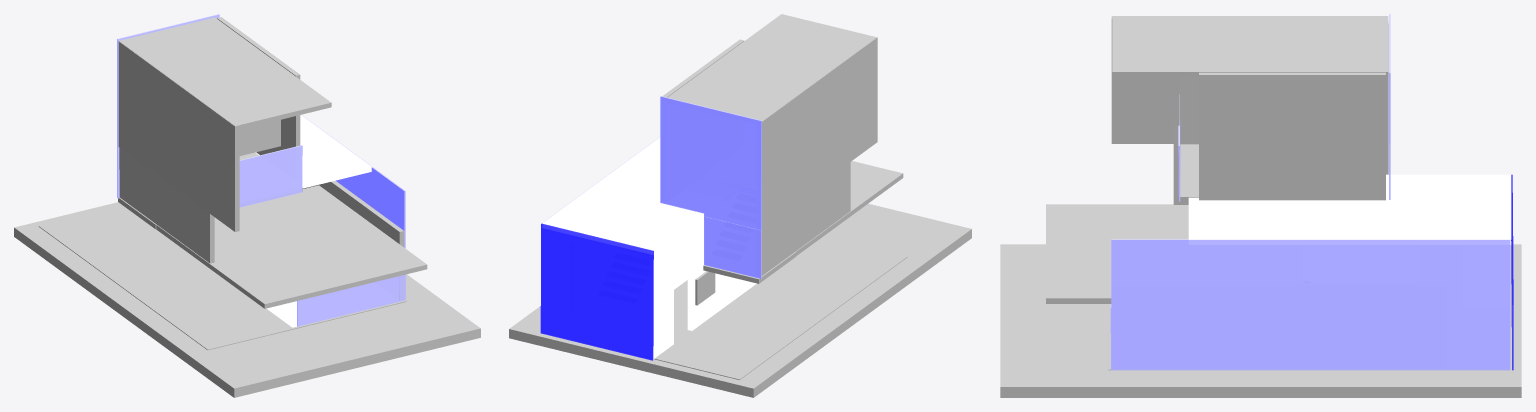
Rendered from mvdr.glb.
3 renders of one model, left to right at view 1: azimuth 30°, elevation 25°; view 2: azimuth 150°, elevation 25°; view 3: azimuth 270°, elevation 25°, orthographic. The views are drawn at different scales.
Parts seen in each view (by area): view 1: Cube.006, Cube.005, Piso planta baja, Cube.011, Cube.004, Cube.003, Cube.002, Cube.012, Cube, Cube.009, Muro 1 planta Baja 1-A, Cube.001 (+3 smaller); view 2: Piso planta baja, Cube.006, Cube.007, Cube.011, Cube.010, Cube.004, Cube, Muro 1 planta Baja 1-A.001, Cube.003, Cube.014, Cube.005, Cube.015 (+2 smaller); view 3: Cube.009, Cube.006, Cube.001, Cube, Cube.004, Cube.005, Cube.011, Cube.003, Cube.008, Cube.007.
Boxes of the visible parts, box(x1,y1,x2,y2) form: Cube.006: box(14, 202, 480, 397); Cube.005: box(156, 185, 427, 308); Piso planta baja: box(38, 205, 406, 350); Cube.011: box(118, 41, 239, 231); Cube.004: box(119, 17, 331, 129); Cube.003: box(119, 147, 214, 263); Cube.002: box(239, 145, 302, 207); Cube.012: box(297, 275, 405, 326); Cube: box(255, 115, 371, 188); Cube.009: box(301, 114, 405, 299); Muro 1 planta Baja 1-A: box(303, 180, 404, 247); Cube.001: box(217, 17, 300, 155); Piso planta baja: box(654, 236, 907, 379); Cube.006: box(509, 203, 971, 397); Cube.007: box(540, 223, 653, 360); Cube.011: box(762, 37, 877, 226); Cube.010: box(660, 96, 761, 230); Cube.004: box(668, 14, 876, 121); Cube: box(542, 137, 703, 254); Muro 1 planta Baja 1-A.001: box(653, 218, 756, 359); Cube.003: box(761, 162, 850, 275); Cube.014: box(704, 216, 761, 278); Cube.005: box(795, 161, 903, 255); Cube.015: box(703, 252, 796, 283); Cube.009: box(1111, 239, 1510, 370); Cube.006: box(1000, 244, 1521, 397); Cube.001: box(1199, 72, 1385, 200); Cube: box(1188, 174, 1511, 244); Cube.004: box(1112, 16, 1388, 77); Cube.005: box(1046, 204, 1188, 303); Cube.011: box(1111, 16, 1173, 143); Cube.003: box(1173, 21, 1388, 204); Cube.008: box(1180, 144, 1198, 202); Cube.007: box(1511, 174, 1513, 370).
Size of what is drawn, in the model's own units: 11 by 9.67 by 17.
